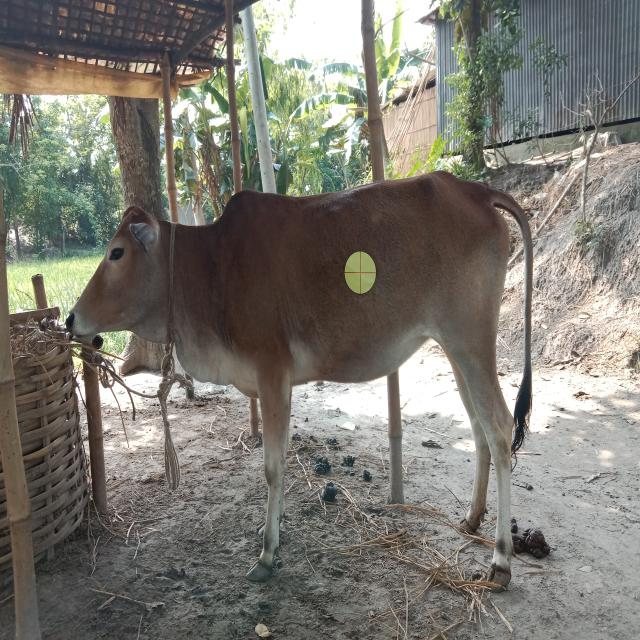badan_sapi: (239, 190, 502, 388)
sapi: (57, 167, 557, 610)
